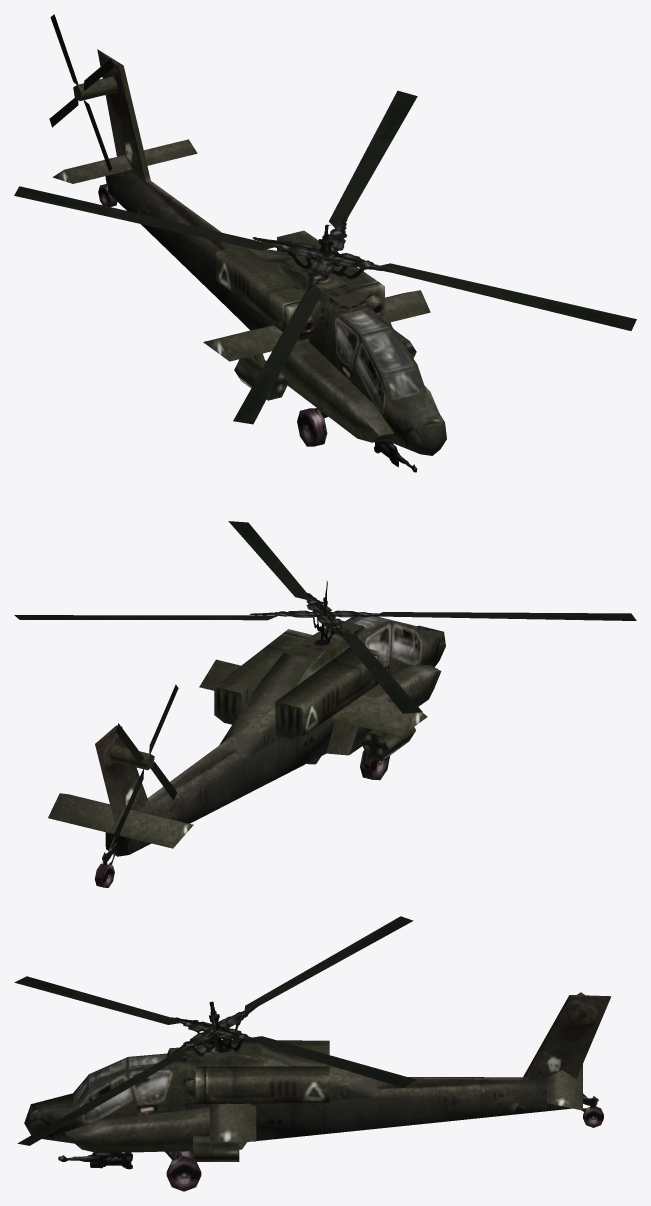
3 renders of one model, top to bottom at view 1: azimuth 30°, elevation 25°; view 2: azimuth 150°, elevation 25°; view 3: azimuth 270°, elevation 25°, orthographic. The views are drawn at different scales.
Parts seen in each view (by area): view 1: Cylinder01, Dummy02, Plane08, Plane09, Plane07, Plane05; view 2: Cylinder01, Plane09, Dummy02, Plane05, Plane08, Plane07; view 3: Cylinder01, Dummy02, Plane07, Plane05, Plane08, Plane09.
Boxes of the visible parts, x1,y1,x2,y2 form: Cylinder01: (52,49,446,472); Dummy02: (252,214,398,294); Plane08: (380,263,636,330); Plane09: (233,285,322,424); Plane07: (329,90,417,227); Plane05: (14,186,276,250); Cylinder01: (48,616,445,887); Plane09: (374,612,636,620); Dummy02: (249,580,396,642); Plane05: (343,632,422,713); Plane08: (228,521,307,599); Plane07: (14,615,278,620); Cylinder01: (24,992,611,1191); Dummy02: (169,1001,263,1056); Plane07: (252,1036,415,1087); Plane05: (244,916,413,1010); Plane08: (17,1049,185,1145); Plane09: (14,976,180,1024).
Size of the model in its own units: 107 by 63.19 by 163.
Materials: 2 (2 with a texture image).
